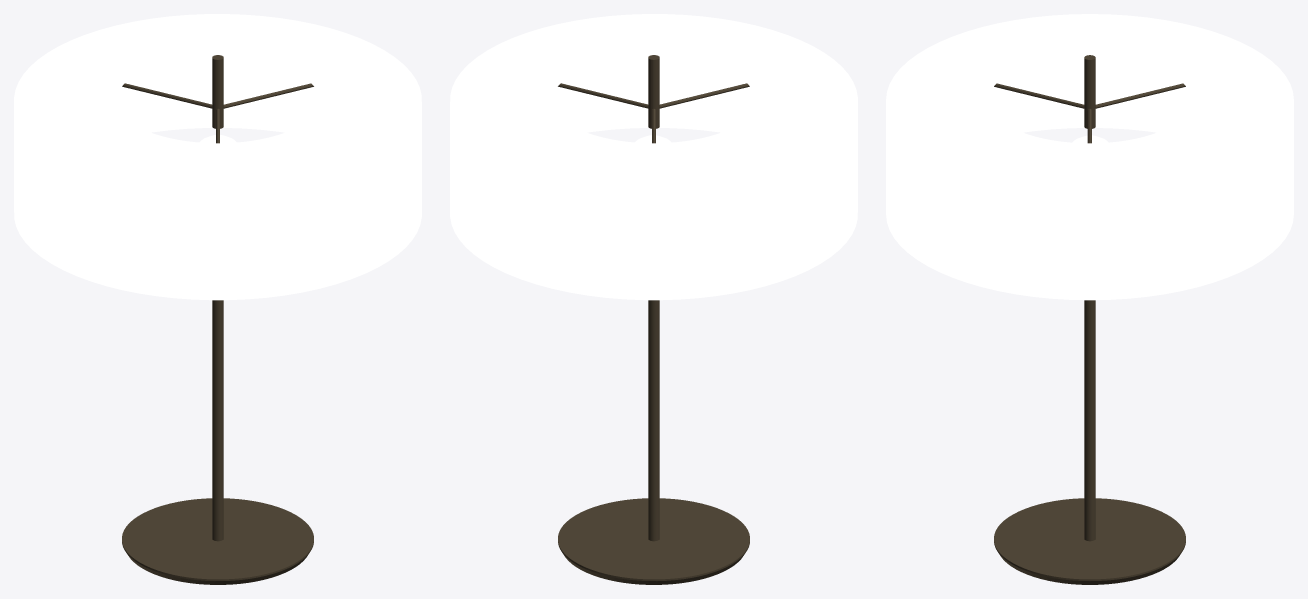
File: CGT_Table_Lamp_74_001.glb
3 renders of one model, left to right at view 1: azimuth 30°, elevation 25°; view 2: azimuth 150°, elevation 25°; view 3: azimuth 270°, elevation 25°, orthographic.
Visible parts, largest first — view 1: CGT_Table_Lamp_74_001; view 2: CGT_Table_Lamp_74_001; view 3: CGT_Table_Lamp_74_001.
Part boxes in pixels (<box>): CGT_Table_Lamp_74_001: <box>14,14,421,584</box>; CGT_Table_Lamp_74_001: <box>450,14,857,584</box>; CGT_Table_Lamp_74_001: <box>886,14,1293,584</box>.
Bounding box in the file's own units: 0.3501 × 0.4623 × 0.3501.
